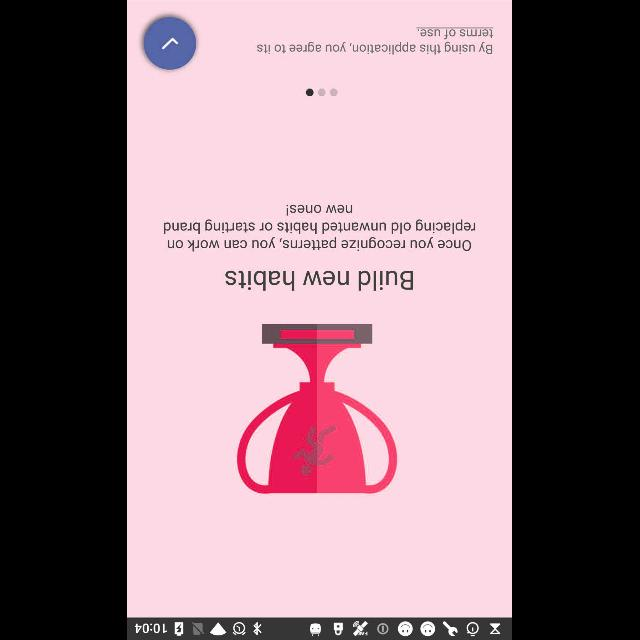button: (144, 18, 198, 70)
image: (238, 324, 398, 494)
pageindicator: (306, 88, 338, 96)
text: (164, 204, 478, 252), (258, 27, 494, 55), (226, 270, 414, 292)
uppertaskbar: (128, 617, 512, 639)
